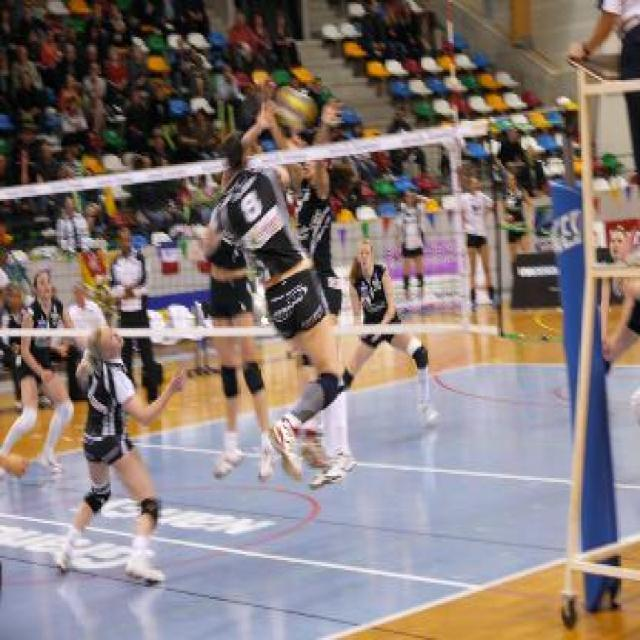volleyball: (274, 86, 316, 130)
